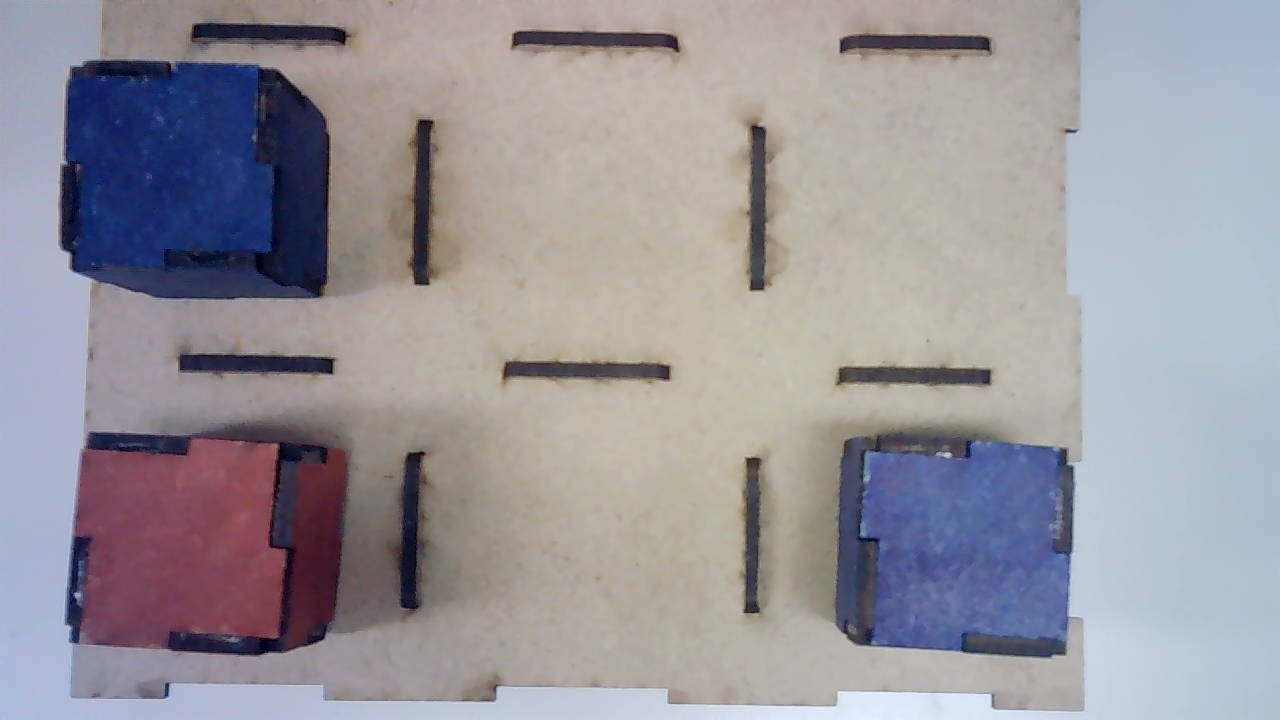blue box: (55, 60, 333, 301), (835, 434, 1077, 666)
red box: (61, 430, 343, 655)
